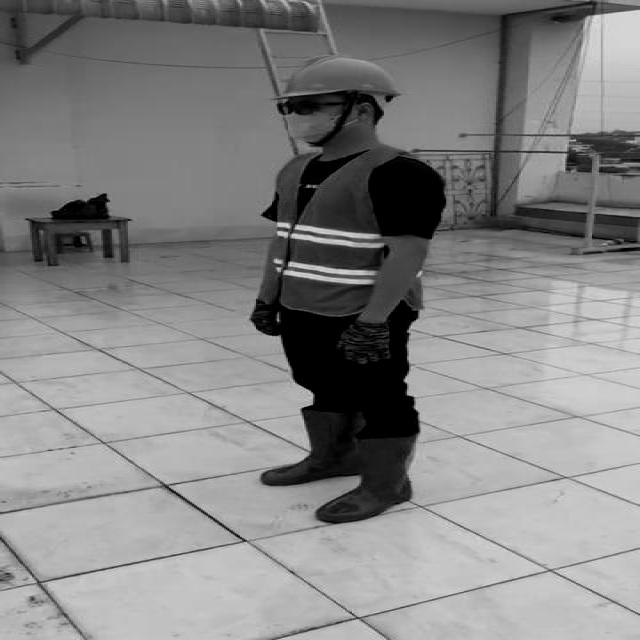boots: (311, 437, 427, 525), (258, 408, 362, 487)
face_mask: (274, 98, 340, 142)
glasses: (271, 98, 326, 119)
hand_glove: (332, 324, 403, 366), (252, 299, 292, 339)
head_helmet: (269, 53, 408, 100)
person: (235, 50, 450, 528)
vest: (260, 148, 448, 319)
